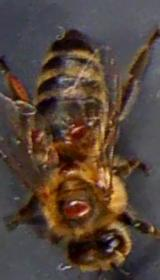varroa_mite: (62, 194, 96, 220), (63, 122, 96, 142), (33, 124, 46, 153)
